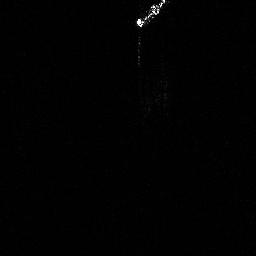ship: (134, 1, 169, 30)
